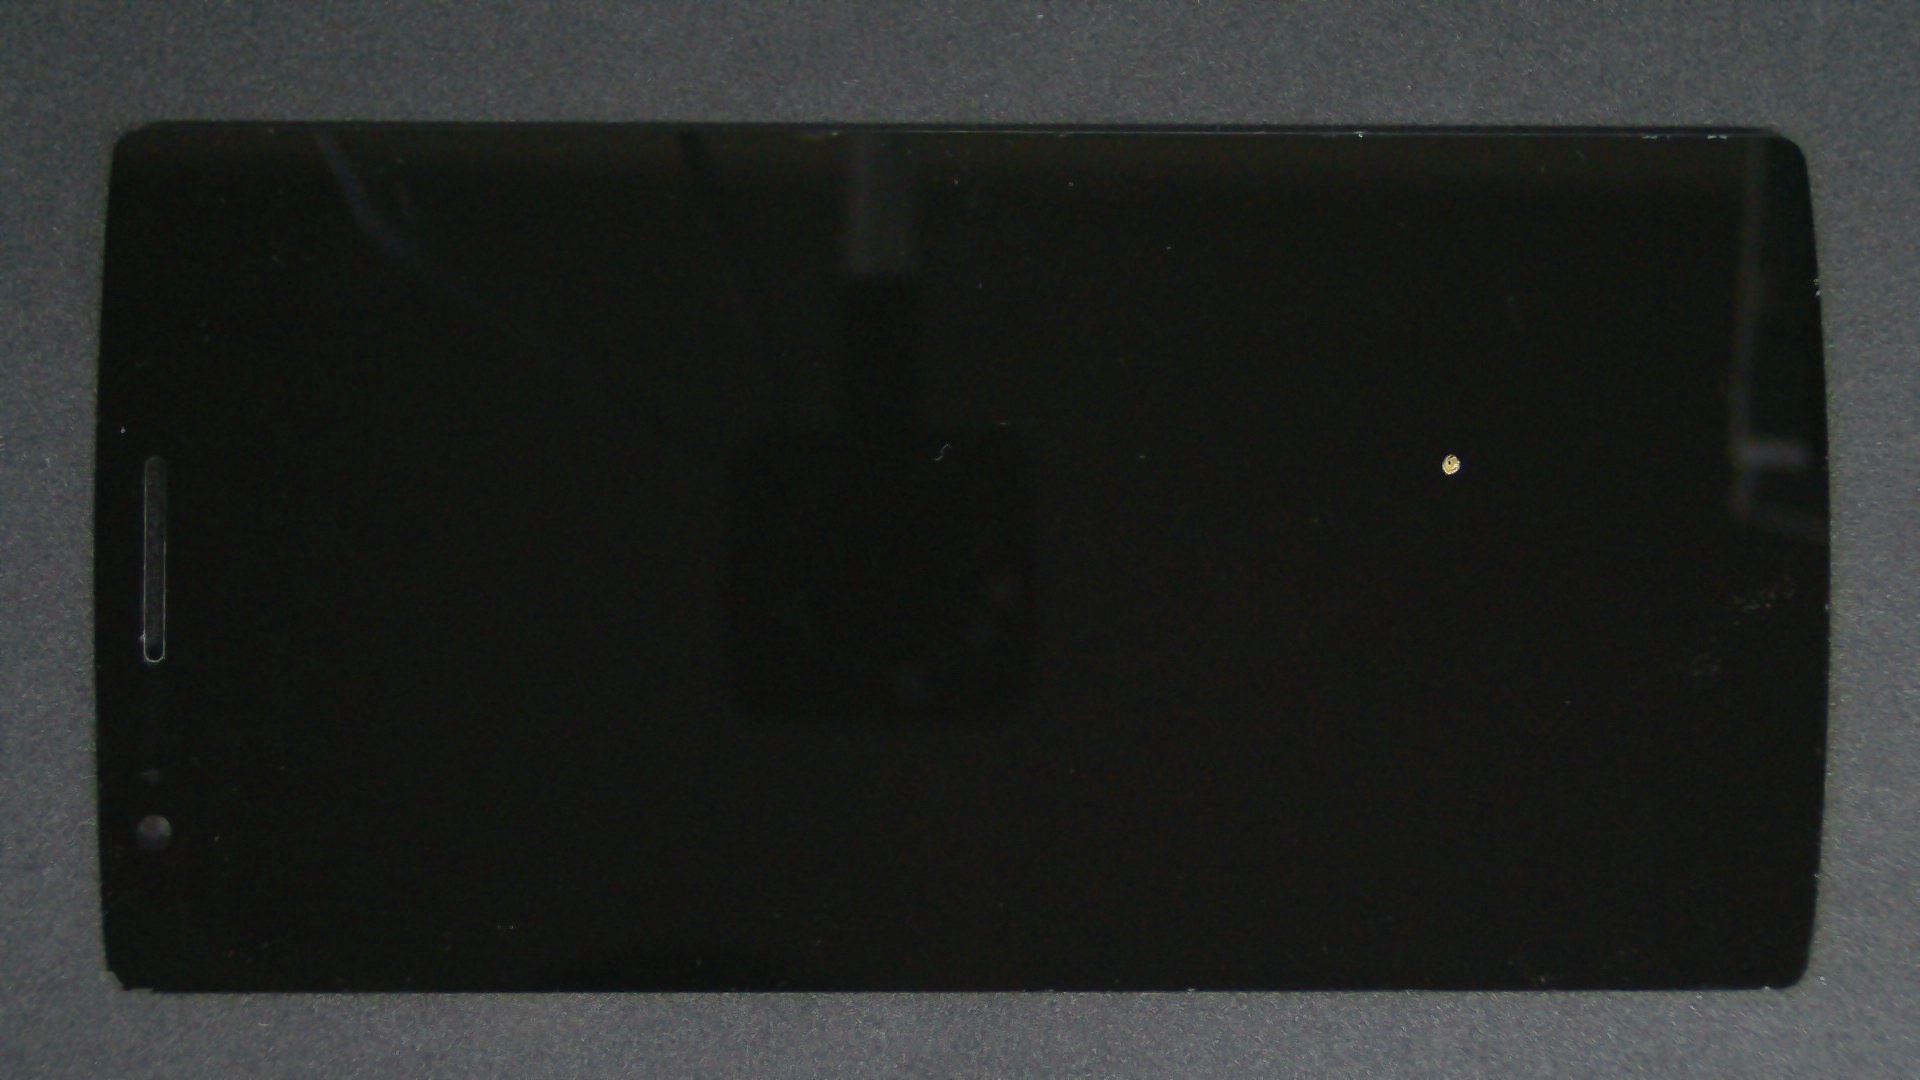oil: (727, 225, 1920, 679)
